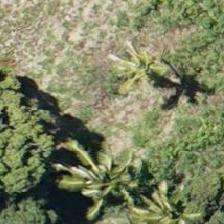coconut_tree: (0, 86, 90, 176), (100, 19, 190, 109), (26, 155, 116, 223)
